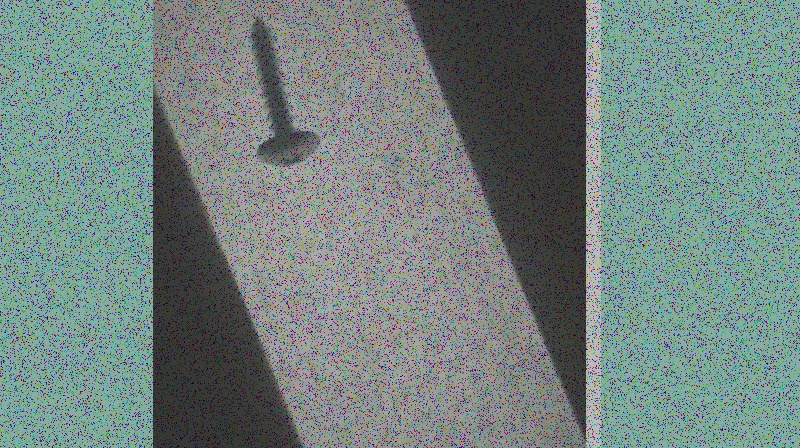S003: (245, 10, 325, 170)
